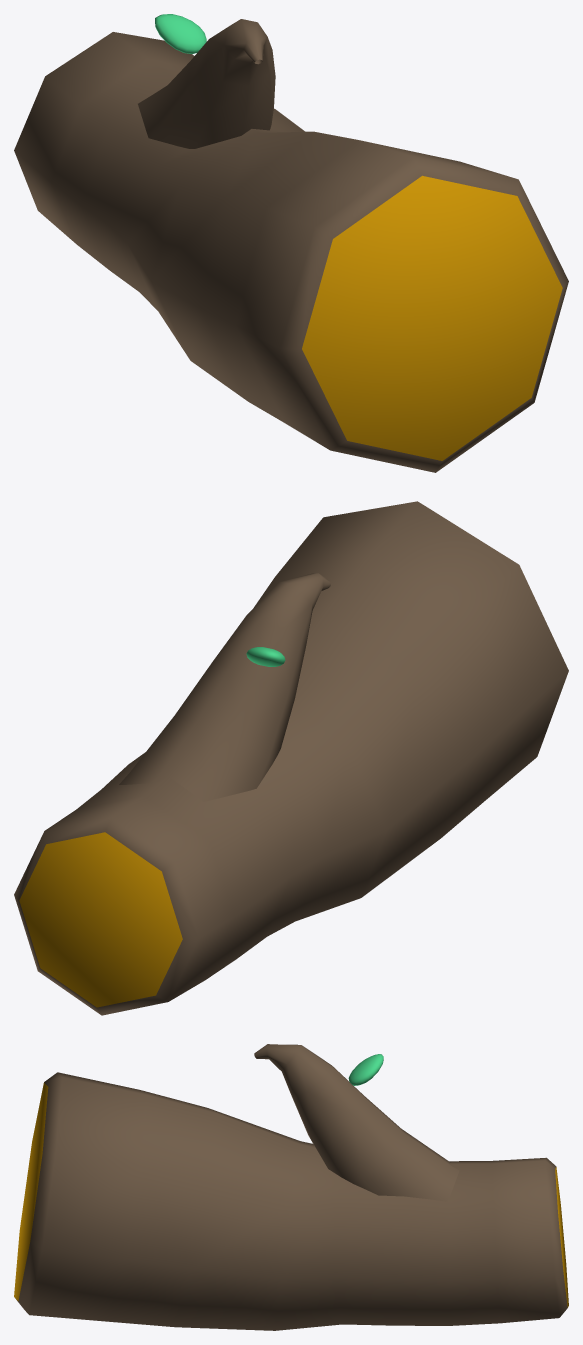
File: Log.fbx
3 views of the same model, one above another, from view 1: azimuth 30°, elevation 25°; view 2: azimuth 150°, elevation 25°; view 3: azimuth 270°, elevation 25° (orthographic). The views are drawn at different scales.
Parts seen in each view (by area): view 1: BezierCurve, Cube; view 2: BezierCurve; view 3: BezierCurve, Cube.
Boxes of the visible parts, box(x1,y1,x2,y2) form: BezierCurve: box(14, 19, 568, 472); Cube: box(155, 14, 206, 53); BezierCurve: box(14, 501, 568, 1015); BezierCurve: box(14, 1044, 568, 1330); Cube: box(348, 1054, 383, 1085).
Size of the model in its own units: 117 by 137 by 250.
